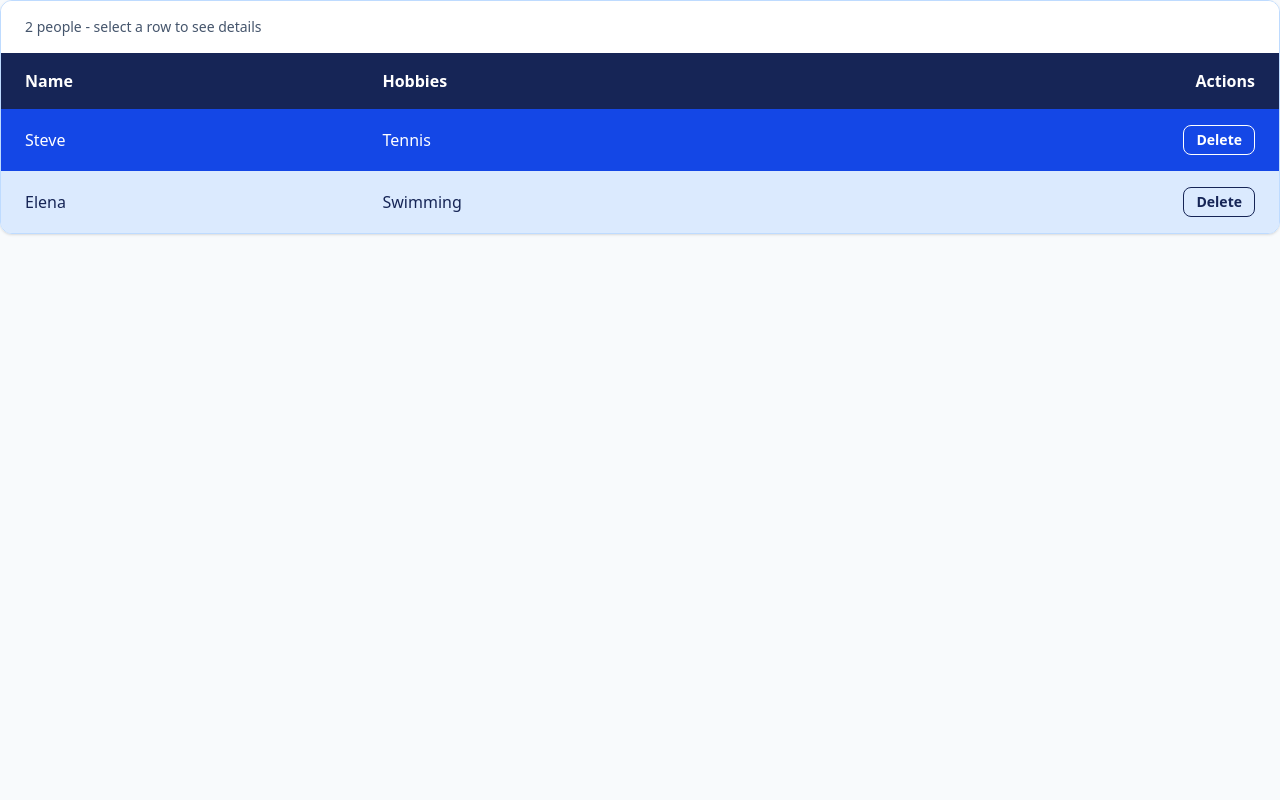
Scenario: DeletePersonButton › removes the row from the table after a successful delete
This screenshot has width=1280, height=800.
Expected: the button "Steve" is shown, [25, 128, 65, 152]
Click the button with aria-label "Delete Steve" at (1219, 140), box [1184, 125, 1255, 155]
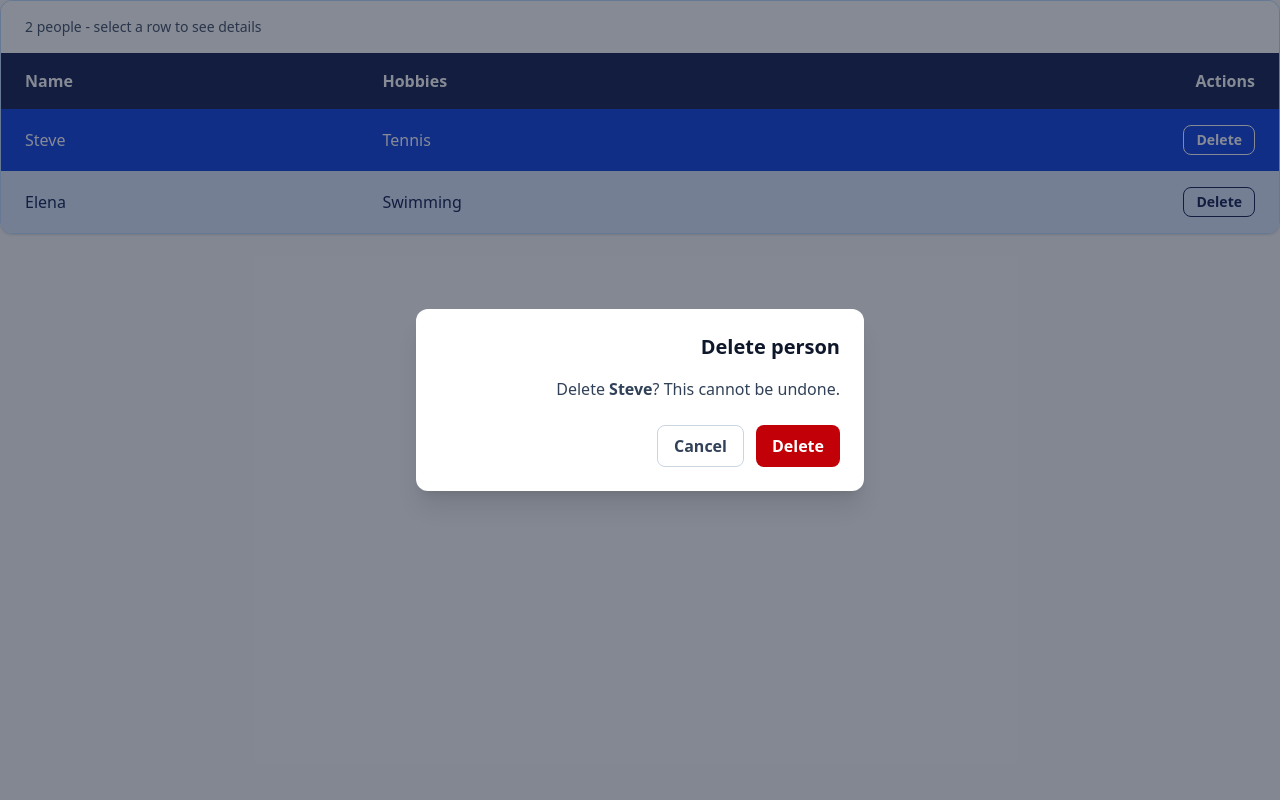
Click the button "Delete" below "? This cannot be undone." at (798, 446), box [756, 425, 840, 467]
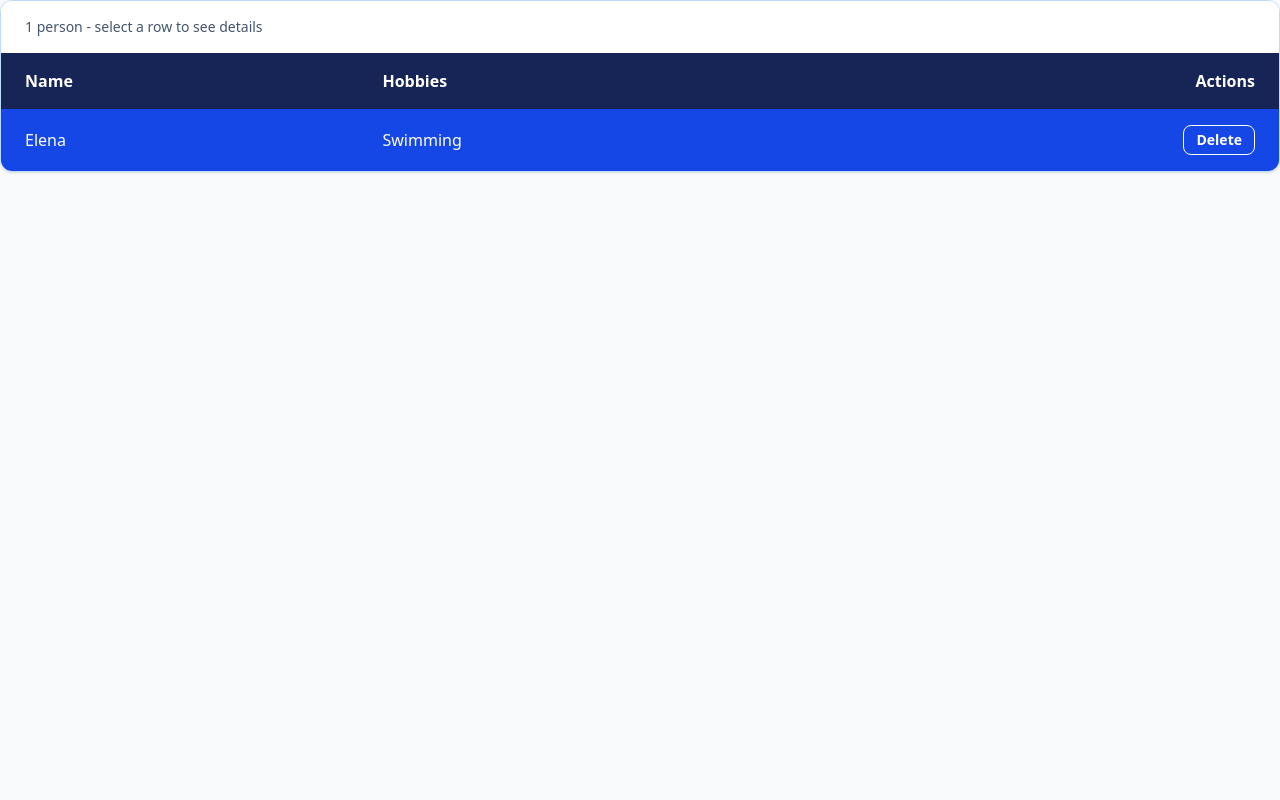
Expected: the button "Elena" is shown, [25, 128, 66, 152]
Now the button "Steve" is gone
Now the text "1 person - select a row to see details" is shown, box [1, 1, 1279, 53]
